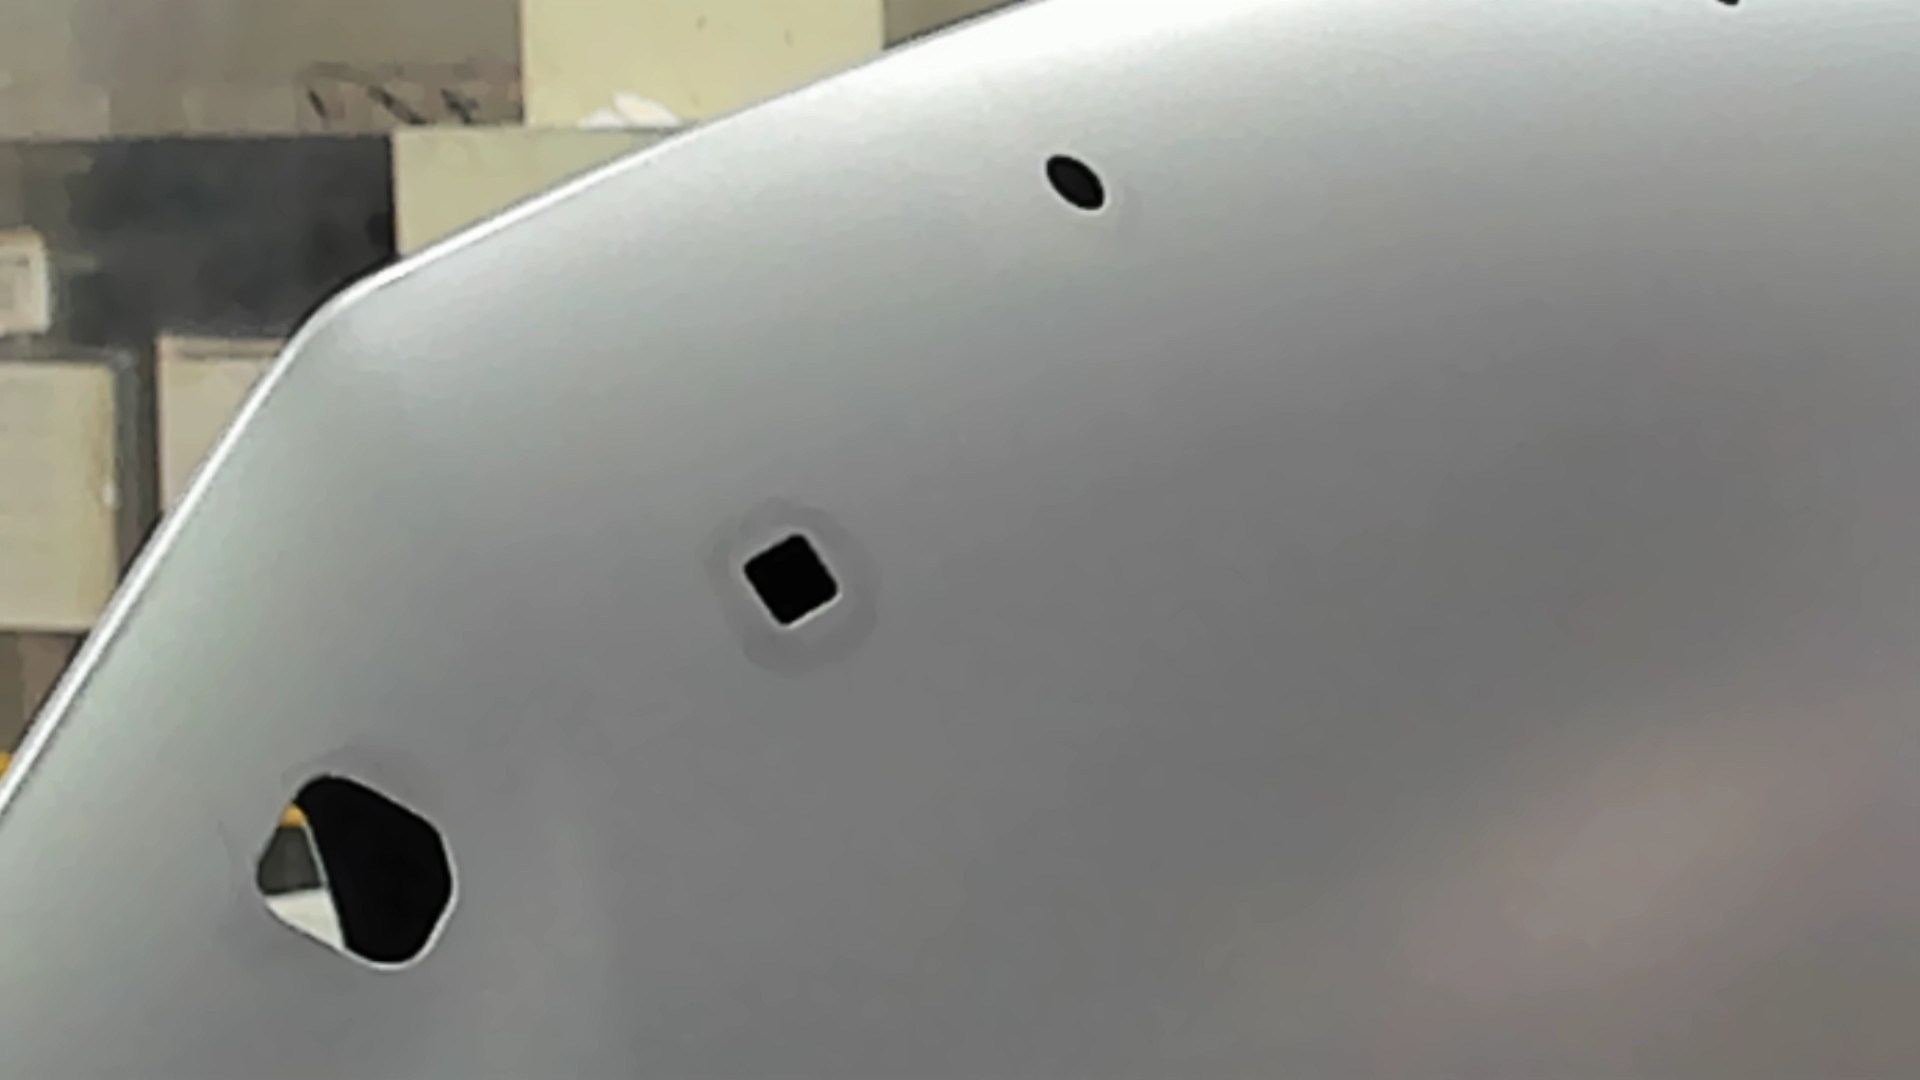chico: (1040, 146, 1112, 218)
grande: (248, 761, 465, 981)
mediano: (735, 524, 848, 640)
